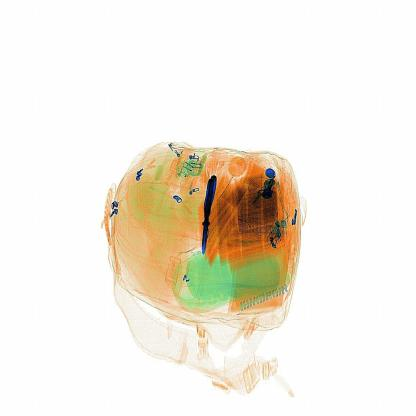gun: (196, 166, 218, 263)
